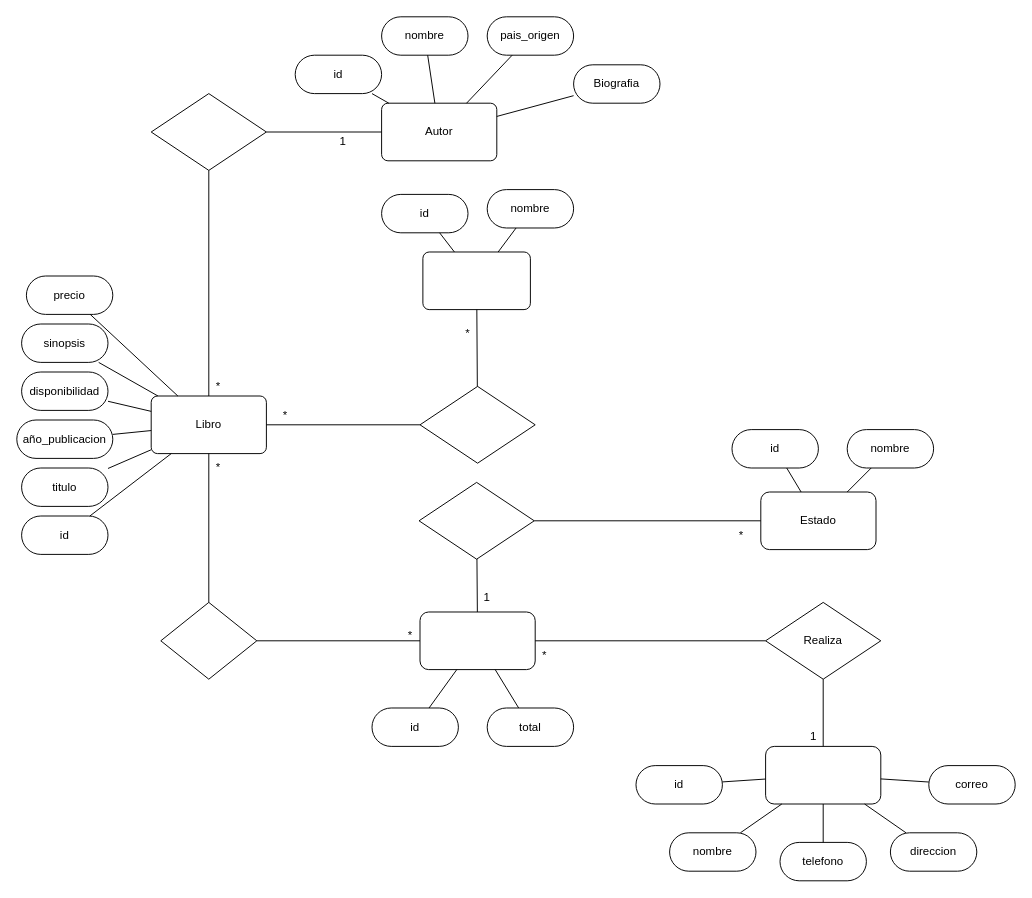
Image size: 1032x898. Some labels were removed from this diagram. The shapes that lost their labels are listed below. From the top down, each one's centre as x and y in pixels, then its label:
At (208,131): "Publica".
At (476,280): "Categoria".
At (477,424): "Contiene".
At (476,520): "Presenta".
At (208,640): "Posee".
At (477,640): "Factura".
At (823,774): "Cliente".
